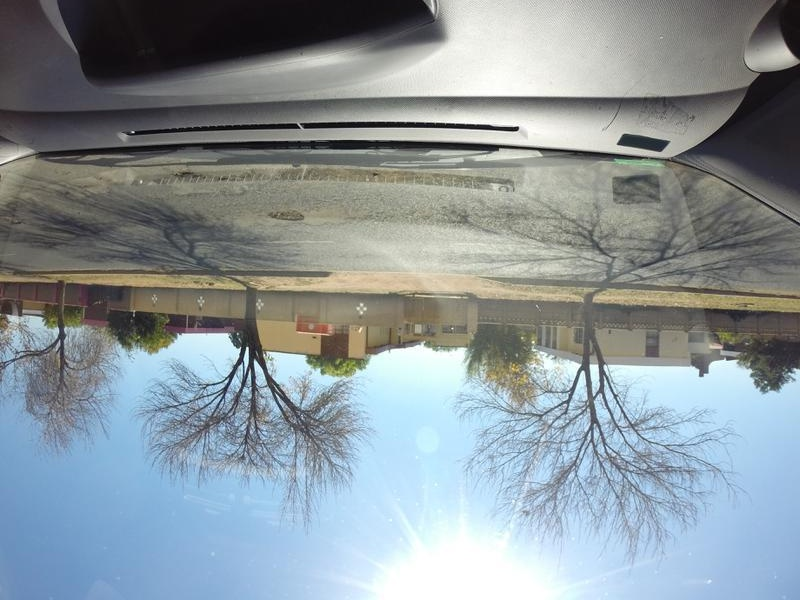pothole: (267, 206, 309, 222), (9, 217, 24, 231)
